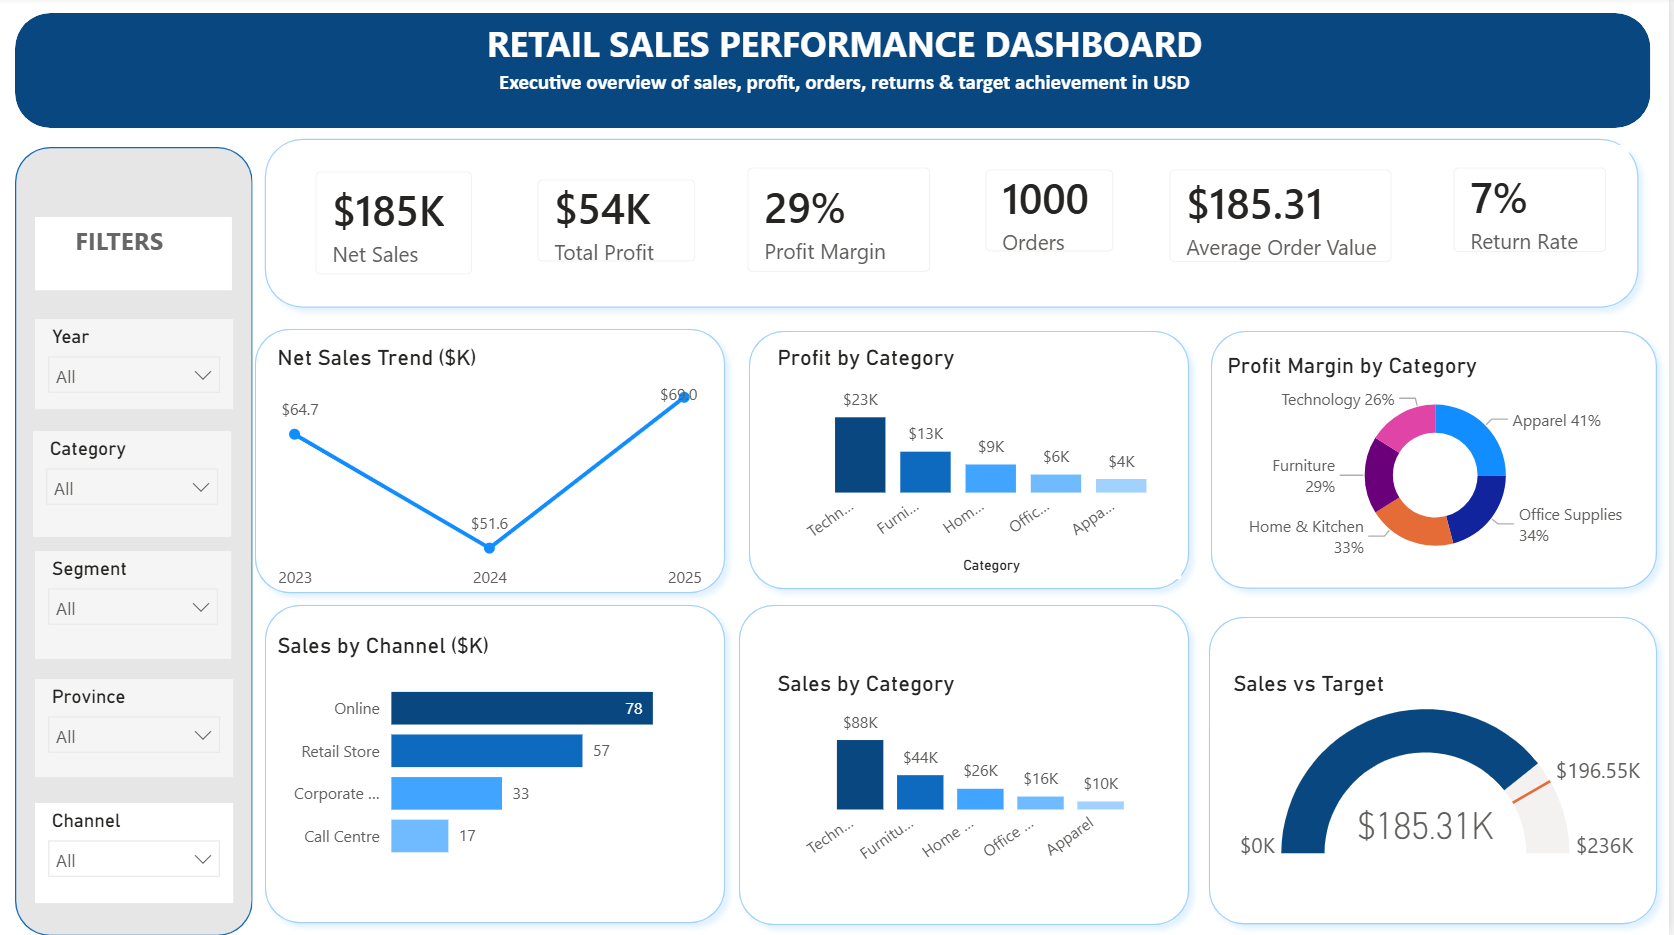

Layout of this report page (visuals, bound fields, positions):
{"tool":"powerbi","page":{"name":"Executive Overview","canvas":[1280,720],"ordinal":0},"visuals":[{"type":"textbox","box":[9.5,0,694.9,56.8],"z":0},{"type":"cardVisual","fields":{"Data":["Fact_Sales.Net Sales Display"]},"box":[9.3,138.4,262.8,108.9],"z":1000},{"type":"cardVisual","fields":{"Data":["Fact_Sales.Total Profit Display"]},"box":[272.1,138.4,213,108.9],"z":2000},{"type":"cardVisual","fields":{"Data":["Fact_Sales.Profit Margin"]},"box":[489.8,138.4,169.5,107.3],"z":3000},{"type":"cardVisual","fields":{"Data":["Fact_Sales.Orders Display"]},"box":[659.4,138.4,183.5,107.3],"z":4000},{"type":"cardVisual","fields":{"Data":["Fact_Sales.Average Order Value Display"]},"box":[842.9,138.4,264.4,107.3],"z":5000},{"type":"cardVisual","fields":{"Data":["Fact_Sales.Return Rate"]},"box":[1105.8,138.4,151.5,107.9],"z":6000},{"type":"textbox","box":[0,56.8,704.4,28.4],"z":7000},{"type":"slicer","fields":{"Values":["Dim_Date.Year"]},"box":[9.5,85.2,191.2,53],"z":8000},{"type":"slicer","fields":{"Values":["Dim_Product.Category"]},"box":[236.7,85.2,221.5,53],"z":9000},{"type":"slicer","fields":{"Values":["Dim_Customer.Province"]},"box":[717.6,85.2,212.1,68.2],"z":10000},{"type":"slicer","fields":{"Values":["Fact_Sales.Channel"]},"box":[1024.4,85.2,232.9,53],"z":11000},{"type":"slicer","fields":{"Values":["Dim_Customer.Segment"]},"box":[515,85.2,189.3,66.3],"z":12000},{"type":"lineChart","title":"Monthly Net Sales Trend","fields":{"Category":["Dim_Date.YearMonth"],"Y":["Fact_Sales.Net Sales"]},"box":[9.3,247.3,1270.5,146.2],"z":13000},{"type":"clusteredBarChart","title":"Net Sales by Category","fields":{"Category":["Dim_Product.Category"],"Y":["Fact_Sales.Net Sales"]},"box":[0,382.5,620.5,189.7],"z":14000},{"type":"clusteredBarChart","title":"Profit by Category","fields":{"Category":["Dim_Product.Category"],"Y":["Fact_Sales.Total Profit"]},"box":[681.1,382.5,598.7,178.8],"z":15000},{"type":"donutChart","title":"Sales by Channel","fields":{"Category":["Fact_Sales.Channel"],"Y":["Fact_Sales.Net Sales"]},"box":[0,573,598,146.4],"z":16000},{"type":"gauge","title":"Sales vs Target","fields":{"Y":["Fact_Sales.Net Sales"],"TargetValue":["Sales_Targets.Sales Target"],"MaxValue":["Fact_Sales.Gauge Max"]},"box":[644.7,571.5,622.9,147.9],"z":17000}]}

Visuals, with their boxes in screenshot pixels (x1, y1, x2, y2), scaled from the page's 1280x720 canvas onto the 1674x935 screenshot:
textbox: <bbox>12, 0, 921, 74</bbox>
cardVisual - Fact_Sales.Net Sales Display: <bbox>12, 180, 356, 321</bbox>
cardVisual - Fact_Sales.Total Profit Display: <bbox>356, 180, 634, 321</bbox>
cardVisual - Fact_Sales.Profit Margin: <bbox>641, 180, 862, 319</bbox>
cardVisual - Fact_Sales.Orders Display: <bbox>862, 180, 1102, 319</bbox>
cardVisual - Fact_Sales.Average Order Value Display: <bbox>1102, 180, 1448, 319</bbox>
cardVisual - Fact_Sales.Return Rate: <bbox>1446, 180, 1644, 320</bbox>
textbox: <bbox>0, 74, 921, 111</bbox>
slicer - Dim_Date.Year: <bbox>12, 111, 262, 179</bbox>
slicer - Dim_Product.Category: <bbox>310, 111, 599, 179</bbox>
slicer - Dim_Customer.Province: <bbox>938, 111, 1216, 199</bbox>
slicer - Fact_Sales.Channel: <bbox>1340, 111, 1644, 179</bbox>
slicer - Dim_Customer.Segment: <bbox>674, 111, 921, 197</bbox>
"Monthly Net Sales Trend" lineChart: <bbox>12, 321, 1673, 511</bbox>
"Net Sales by Category" clusteredBarChart: <bbox>0, 497, 811, 743</bbox>
"Profit by Category" clusteredBarChart: <bbox>891, 497, 1673, 729</bbox>
"Sales by Channel" donutChart: <bbox>0, 744, 782, 934</bbox>
"Sales vs Target" gauge: <bbox>843, 742, 1658, 934</bbox>
